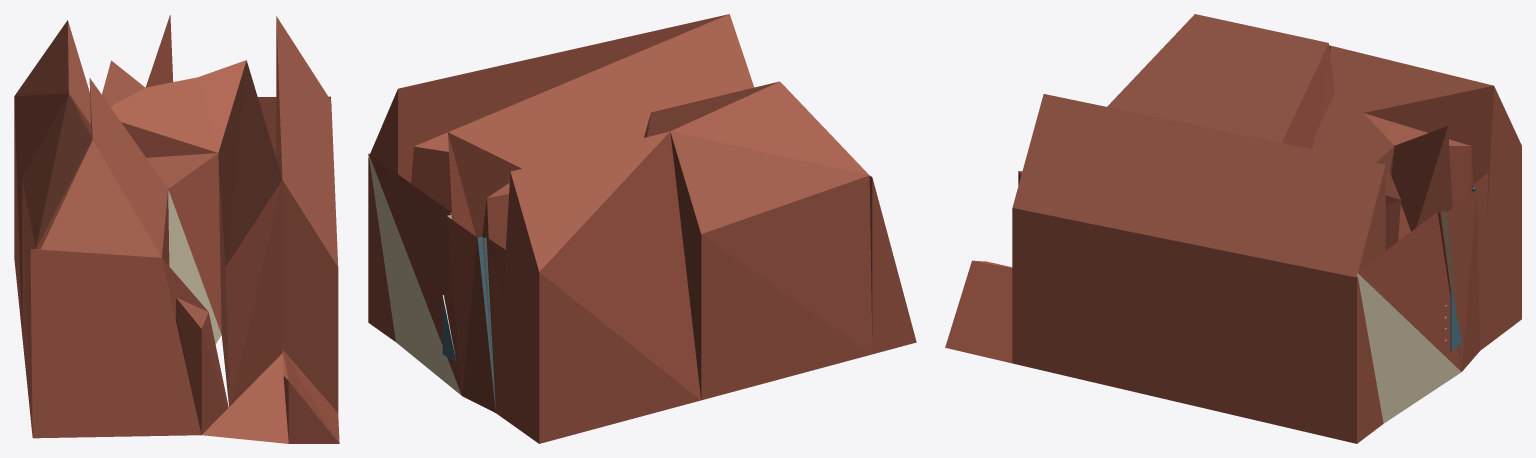
File: wine-guildhall.lod2.glb
3 renders of one model, left to right at view 1: azimuth 30°, elevation 25°; view 2: azimuth 150°, elevation 25°; view 3: azimuth 270°, elevation 25°, orthographic. The views are drawn at different scales.
Parts seen in each view (by area): view 1: lod2; view 2: lod2; view 3: lod2.
Boxes of the visible parts, box(x1,y1,x2,y2) form: lod2: box(14, 15, 339, 443); lod2: box(368, 14, 916, 443); lod2: box(945, 14, 1521, 443).
Size of the model in its own units: 20.67 by 12.15 by 23.66.
